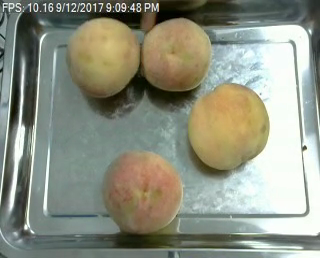Peach: (189, 82, 270, 170), (102, 149, 183, 233), (66, 16, 140, 97), (142, 17, 212, 91)
